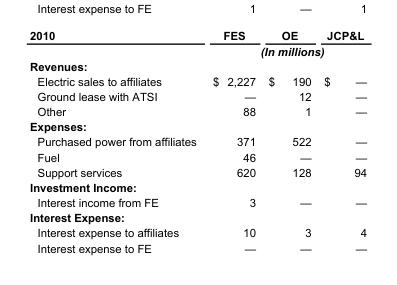table: (29, 29, 366, 253)
table column: (29, 29, 203, 253), (203, 29, 261, 253), (261, 29, 316, 253), (316, 29, 366, 253)
table column header: (29, 29, 366, 58)
table projected row header: (29, 58, 366, 73), (29, 118, 366, 133), (29, 179, 366, 194), (29, 209, 366, 224)
table row: (29, 133, 366, 149), (29, 43, 366, 58), (29, 58, 366, 73), (29, 73, 366, 88), (29, 88, 366, 103), (29, 103, 366, 118), (29, 118, 366, 133), (29, 149, 366, 164), (29, 164, 366, 179), (29, 179, 366, 194), (29, 194, 366, 209), (29, 209, 366, 224), (29, 224, 366, 239), (29, 29, 366, 43), (29, 239, 366, 253)
table spanning cell: (29, 29, 203, 58), (203, 43, 366, 58)
